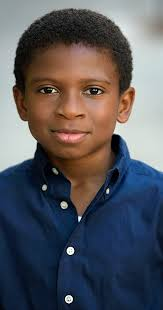person: (9, 7, 136, 161)
